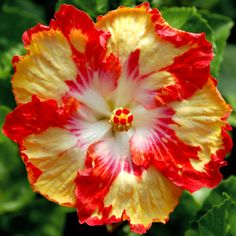Hibiscus: (7, 6, 226, 223)
